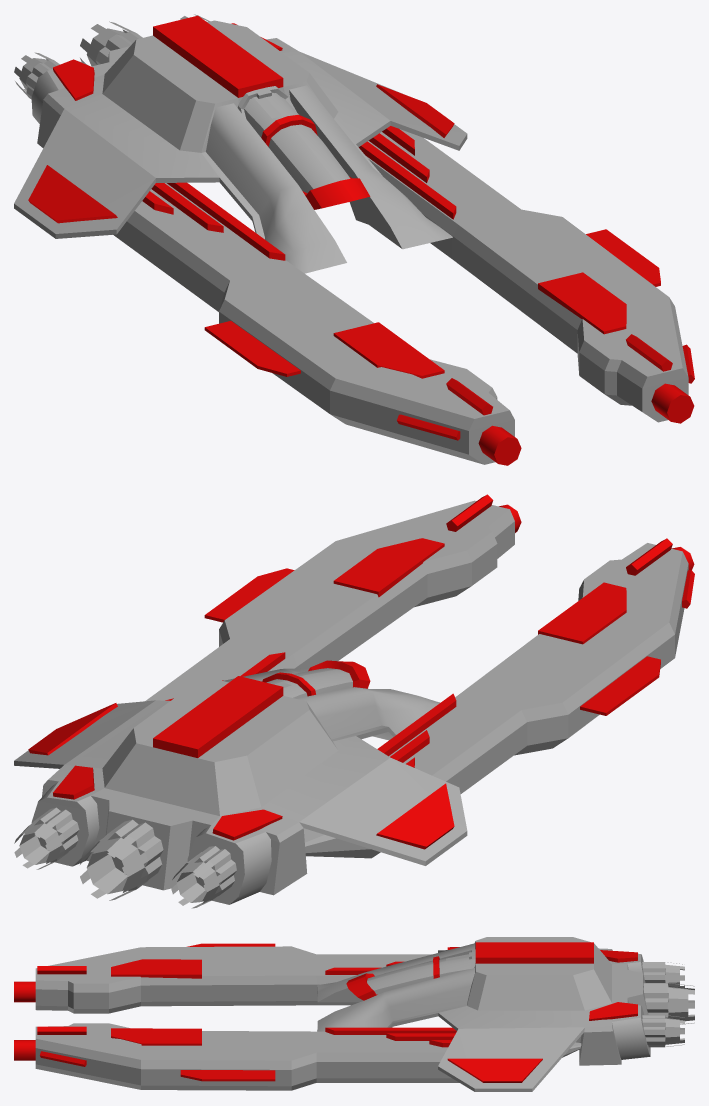
Rendered from Zaiten1.fbx.
3 views of the same model, one above another, from view 1: azimuth 30°, elevation 25°; view 2: azimuth 150°, elevation 25°; view 3: azimuth 270°, elevation 25° (orthographic). The views are drawn at different scales.
Parts seen in each view (by area): view 1: zaiten1_diffuse, zaiten1_color; view 2: zaiten1_diffuse, zaiten1_color; view 3: zaiten1_diffuse, zaiten1_color.
Part boxes in pixels (x1,y1,x2,y2): zaiten1_diffuse: (14,14,688,464); zaiten1_color: (28,15,694,465); zaiten1_diffuse: (14,500,688,908); zaiten1_color: (28,494,694,849); zaiten1_diffuse: (35,937,694,1091); zaiten1_color: (14,942,637,1082).
Bounding box in the file's own units: 2.53 × 0.7383 × 5.24.
